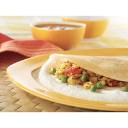dosa: (40, 53, 128, 100)
